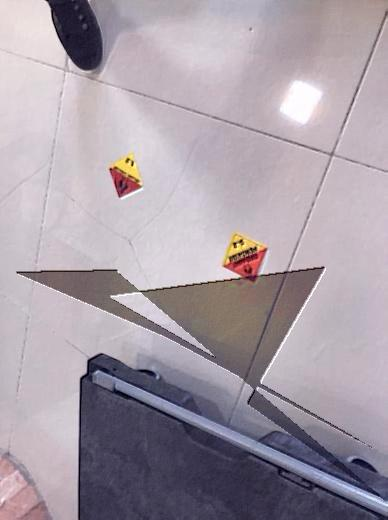organic-peroxide: (222, 232, 268, 283), (109, 153, 145, 201)
